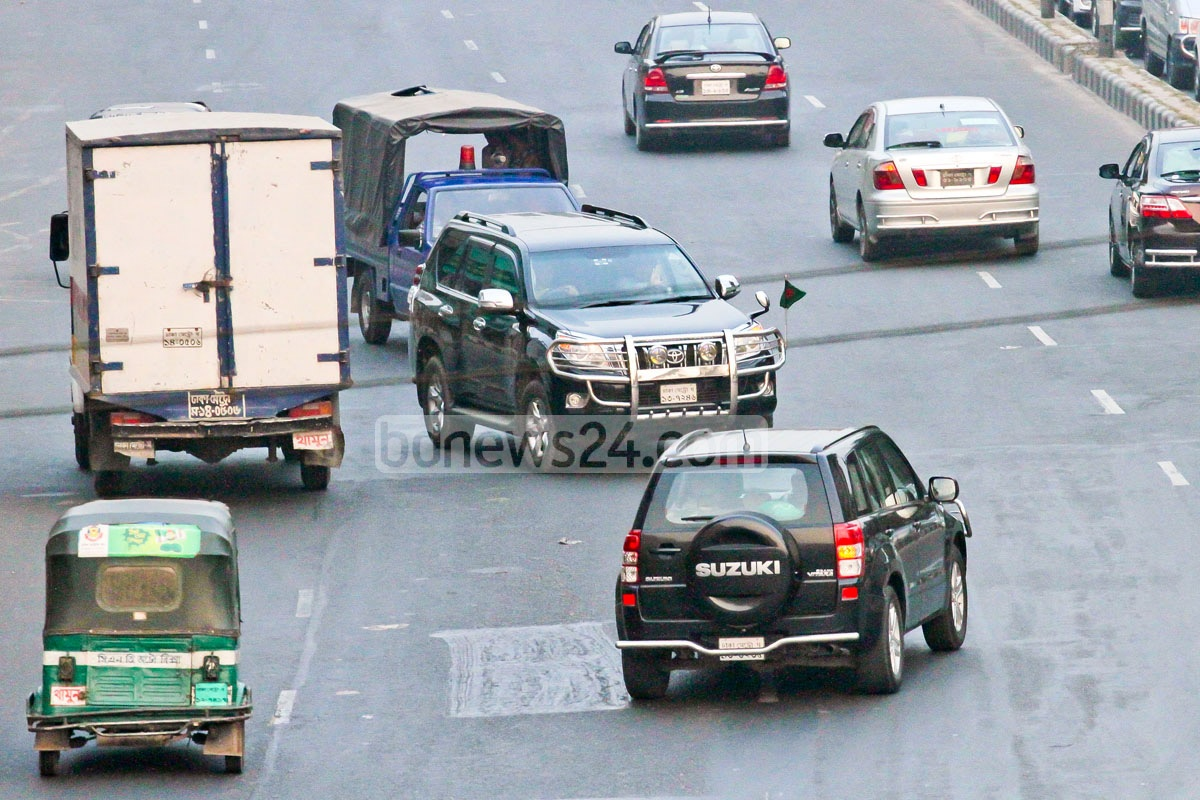car: (824, 95, 1044, 260), (616, 11, 792, 151), (1100, 129, 1200, 299)
pickup: (55, 115, 342, 488)
policecar: (333, 84, 579, 345)
suv: (412, 206, 786, 466), (615, 427, 969, 697)
three wheelers (CNG): (27, 499, 250, 778)
